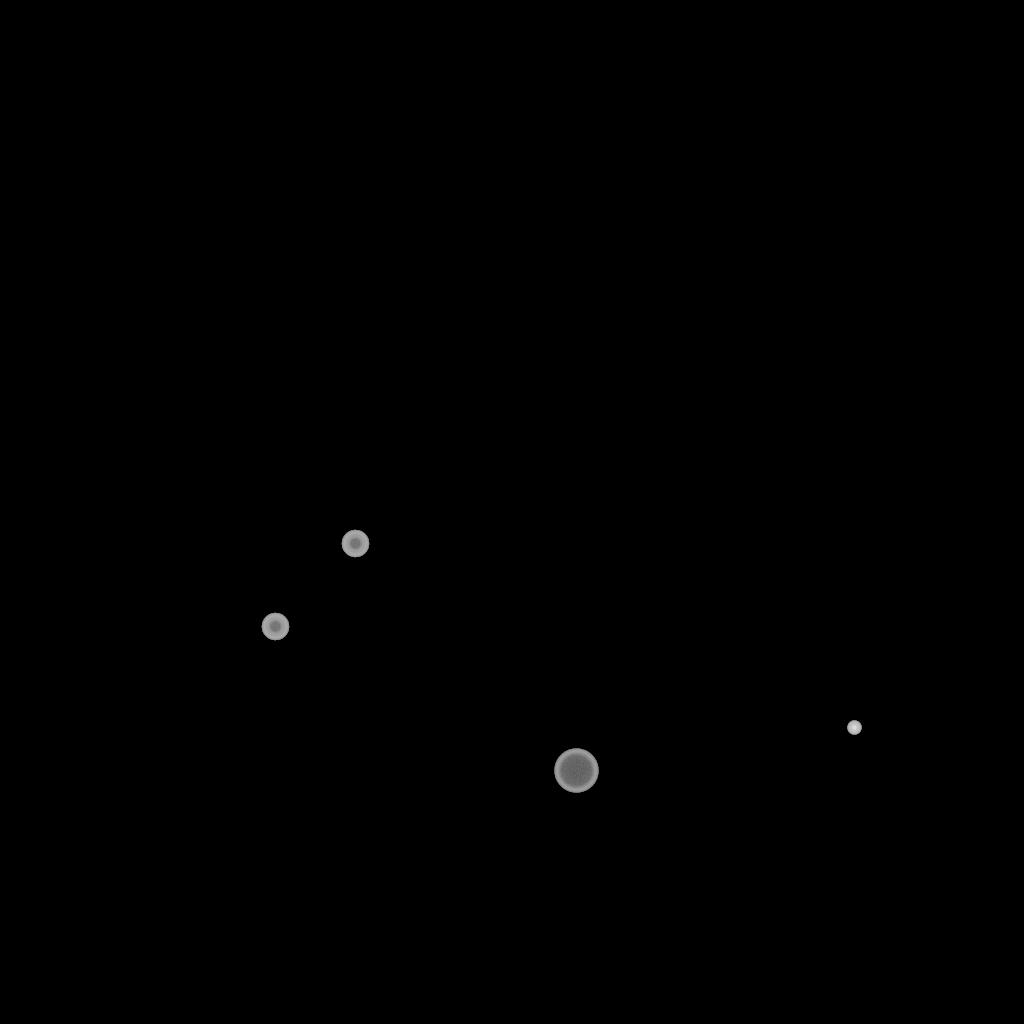depth:-30: (847, 721, 861, 735)
depth:-50: (261, 613, 289, 641), (341, 530, 369, 558)
depth:-70: (554, 749, 598, 793)
